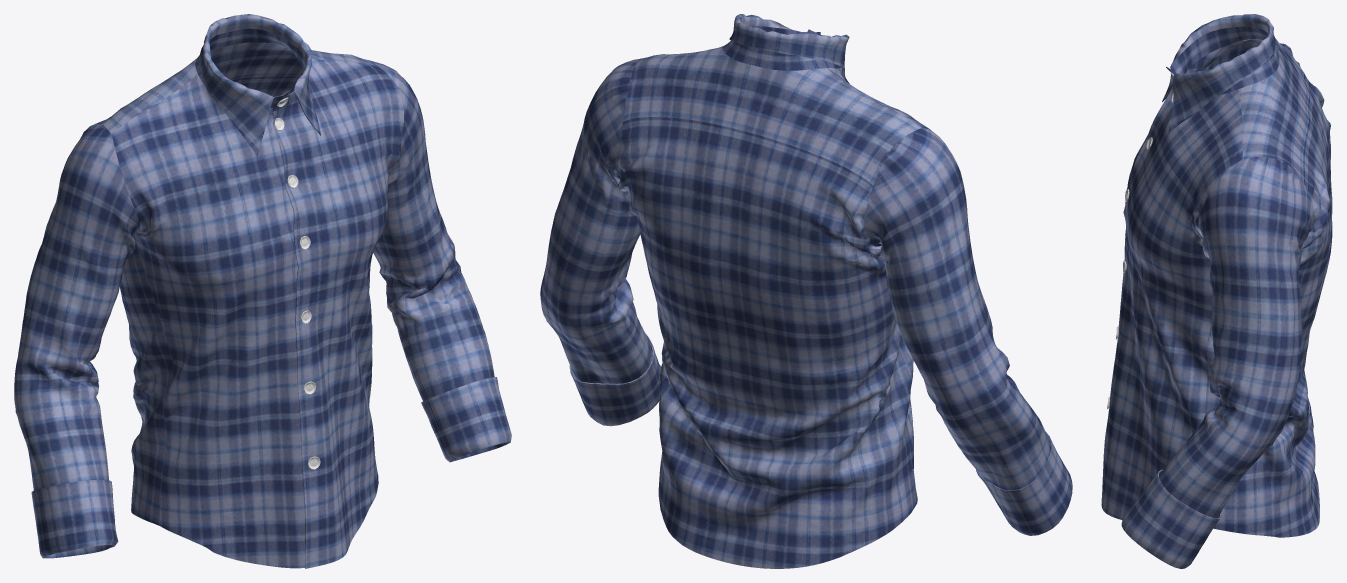
3 views of the same model, side by side, from view 1: azimuth 30°, elevation 25°; view 2: azimuth 150°, elevation 25°; view 3: azimuth 270°, elevation 25° (orthographic). The views are drawn at different scales.
Visible parts, largest first — view 1: Shirt01; view 2: Shirt01; view 3: Shirt01.
Boxes of the visible parts, box(x1,y1,x2,y2) form: Shirt01: box(14, 14, 511, 568); Shirt01: box(540, 14, 1072, 568); Shirt01: box(1101, 14, 1332, 568).
Size of the model in its own units: 0.6443 by 0.6587 by 0.2865.
Materials: 2 (1 with a texture image).
